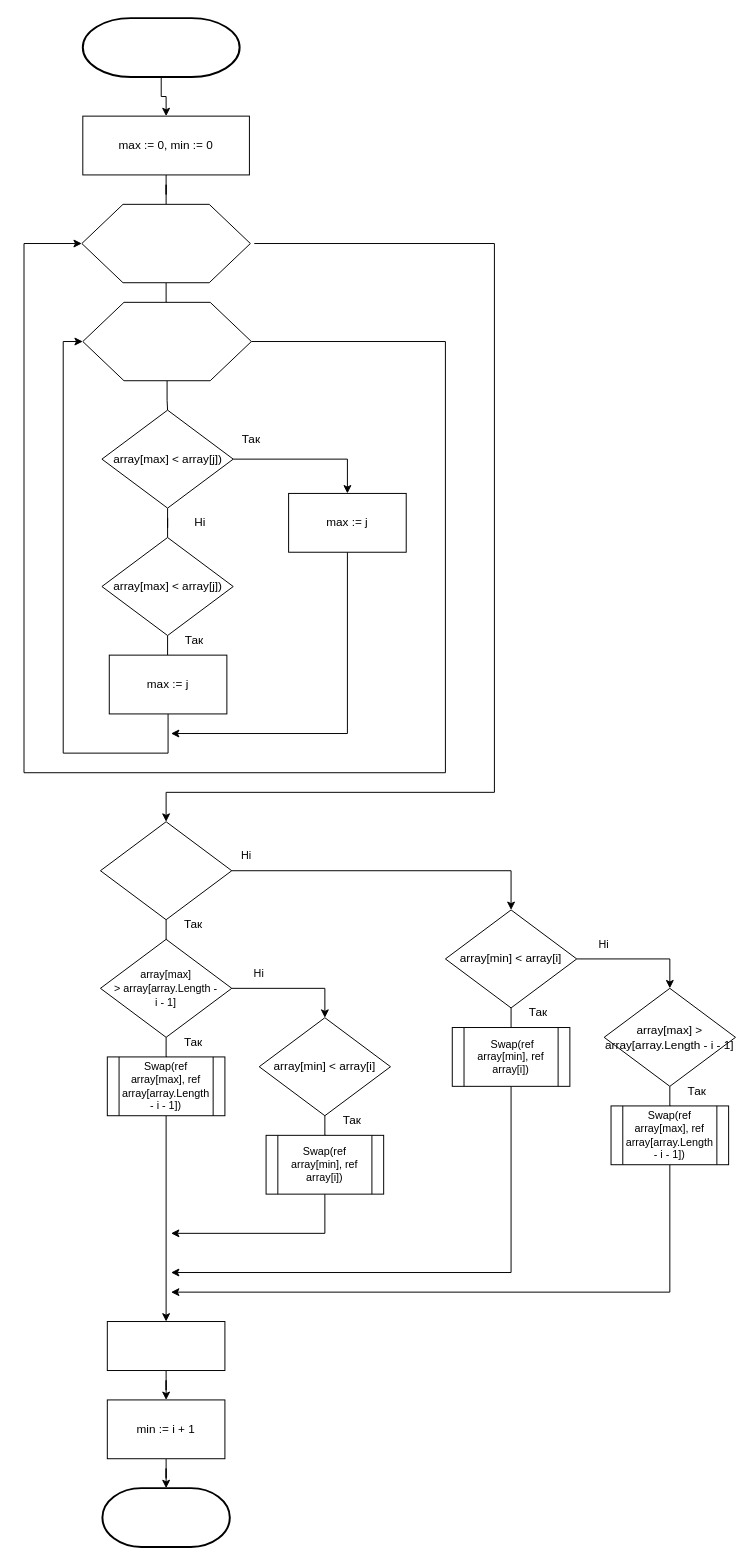
Image size: 753x1564. Some labels were removed from this diagram. Here are the shapes that lost their labels. From the top down, the centre of each, then its label:
(x=160, y=47): Початок
(x=165, y=243): i від 0 до array.Length / 2
(x=166, y=341): j від 0 до array.Length
(x=165, y=870): max == і
(x=165, y=1346): max := i + 1
(x=165, y=1517): Кінець
